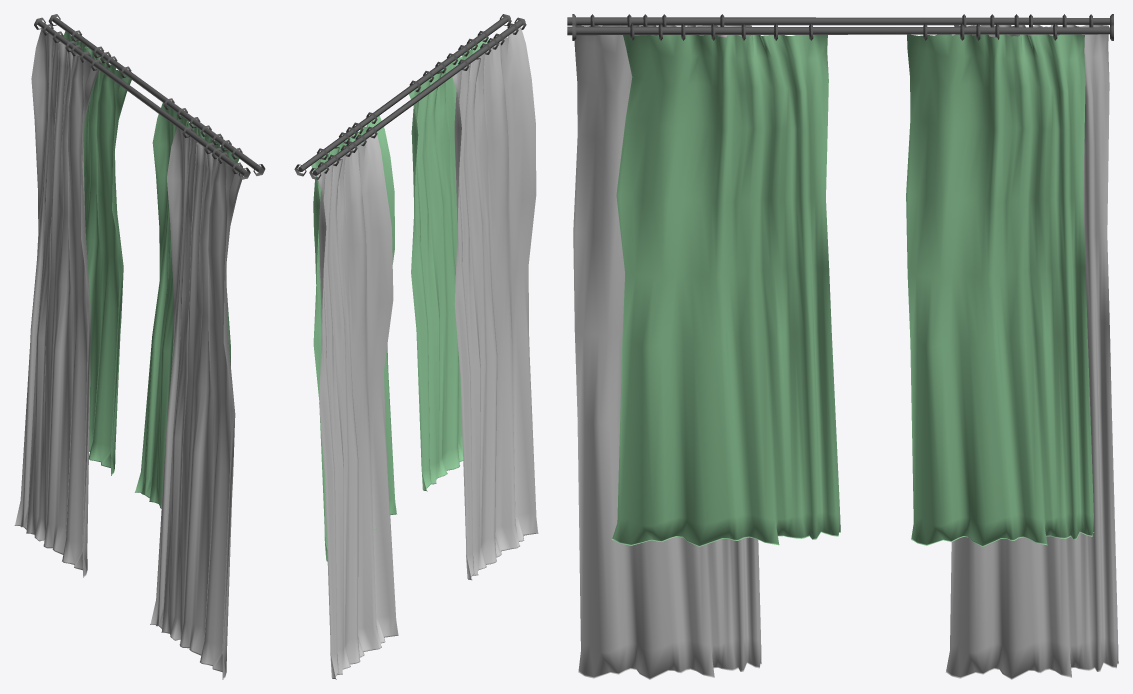
File: LivingroomCurtains02.FBX
The picture shows the model from 3 angles, left to right: view 1: azimuth 30°, elevation 25°; view 2: azimuth 150°, elevation 25°; view 3: azimuth 270°, elevation 25°; orthographic projection. The views are drawn at different scales.
Parts seen in each view (by area): view 1: LivingroomCurtains02; view 2: LivingroomCurtains02; view 3: LivingroomCurtains02.
Boxes of the visible parts, <box> form: LivingroomCurtains02: <box>14,14,265,679</box>; LivingroomCurtains02: <box>294,14,538,679</box>; LivingroomCurtains02: <box>567,14,1118,679</box>.
Size of the model in its own units: 21.1 by 174 by 234.
